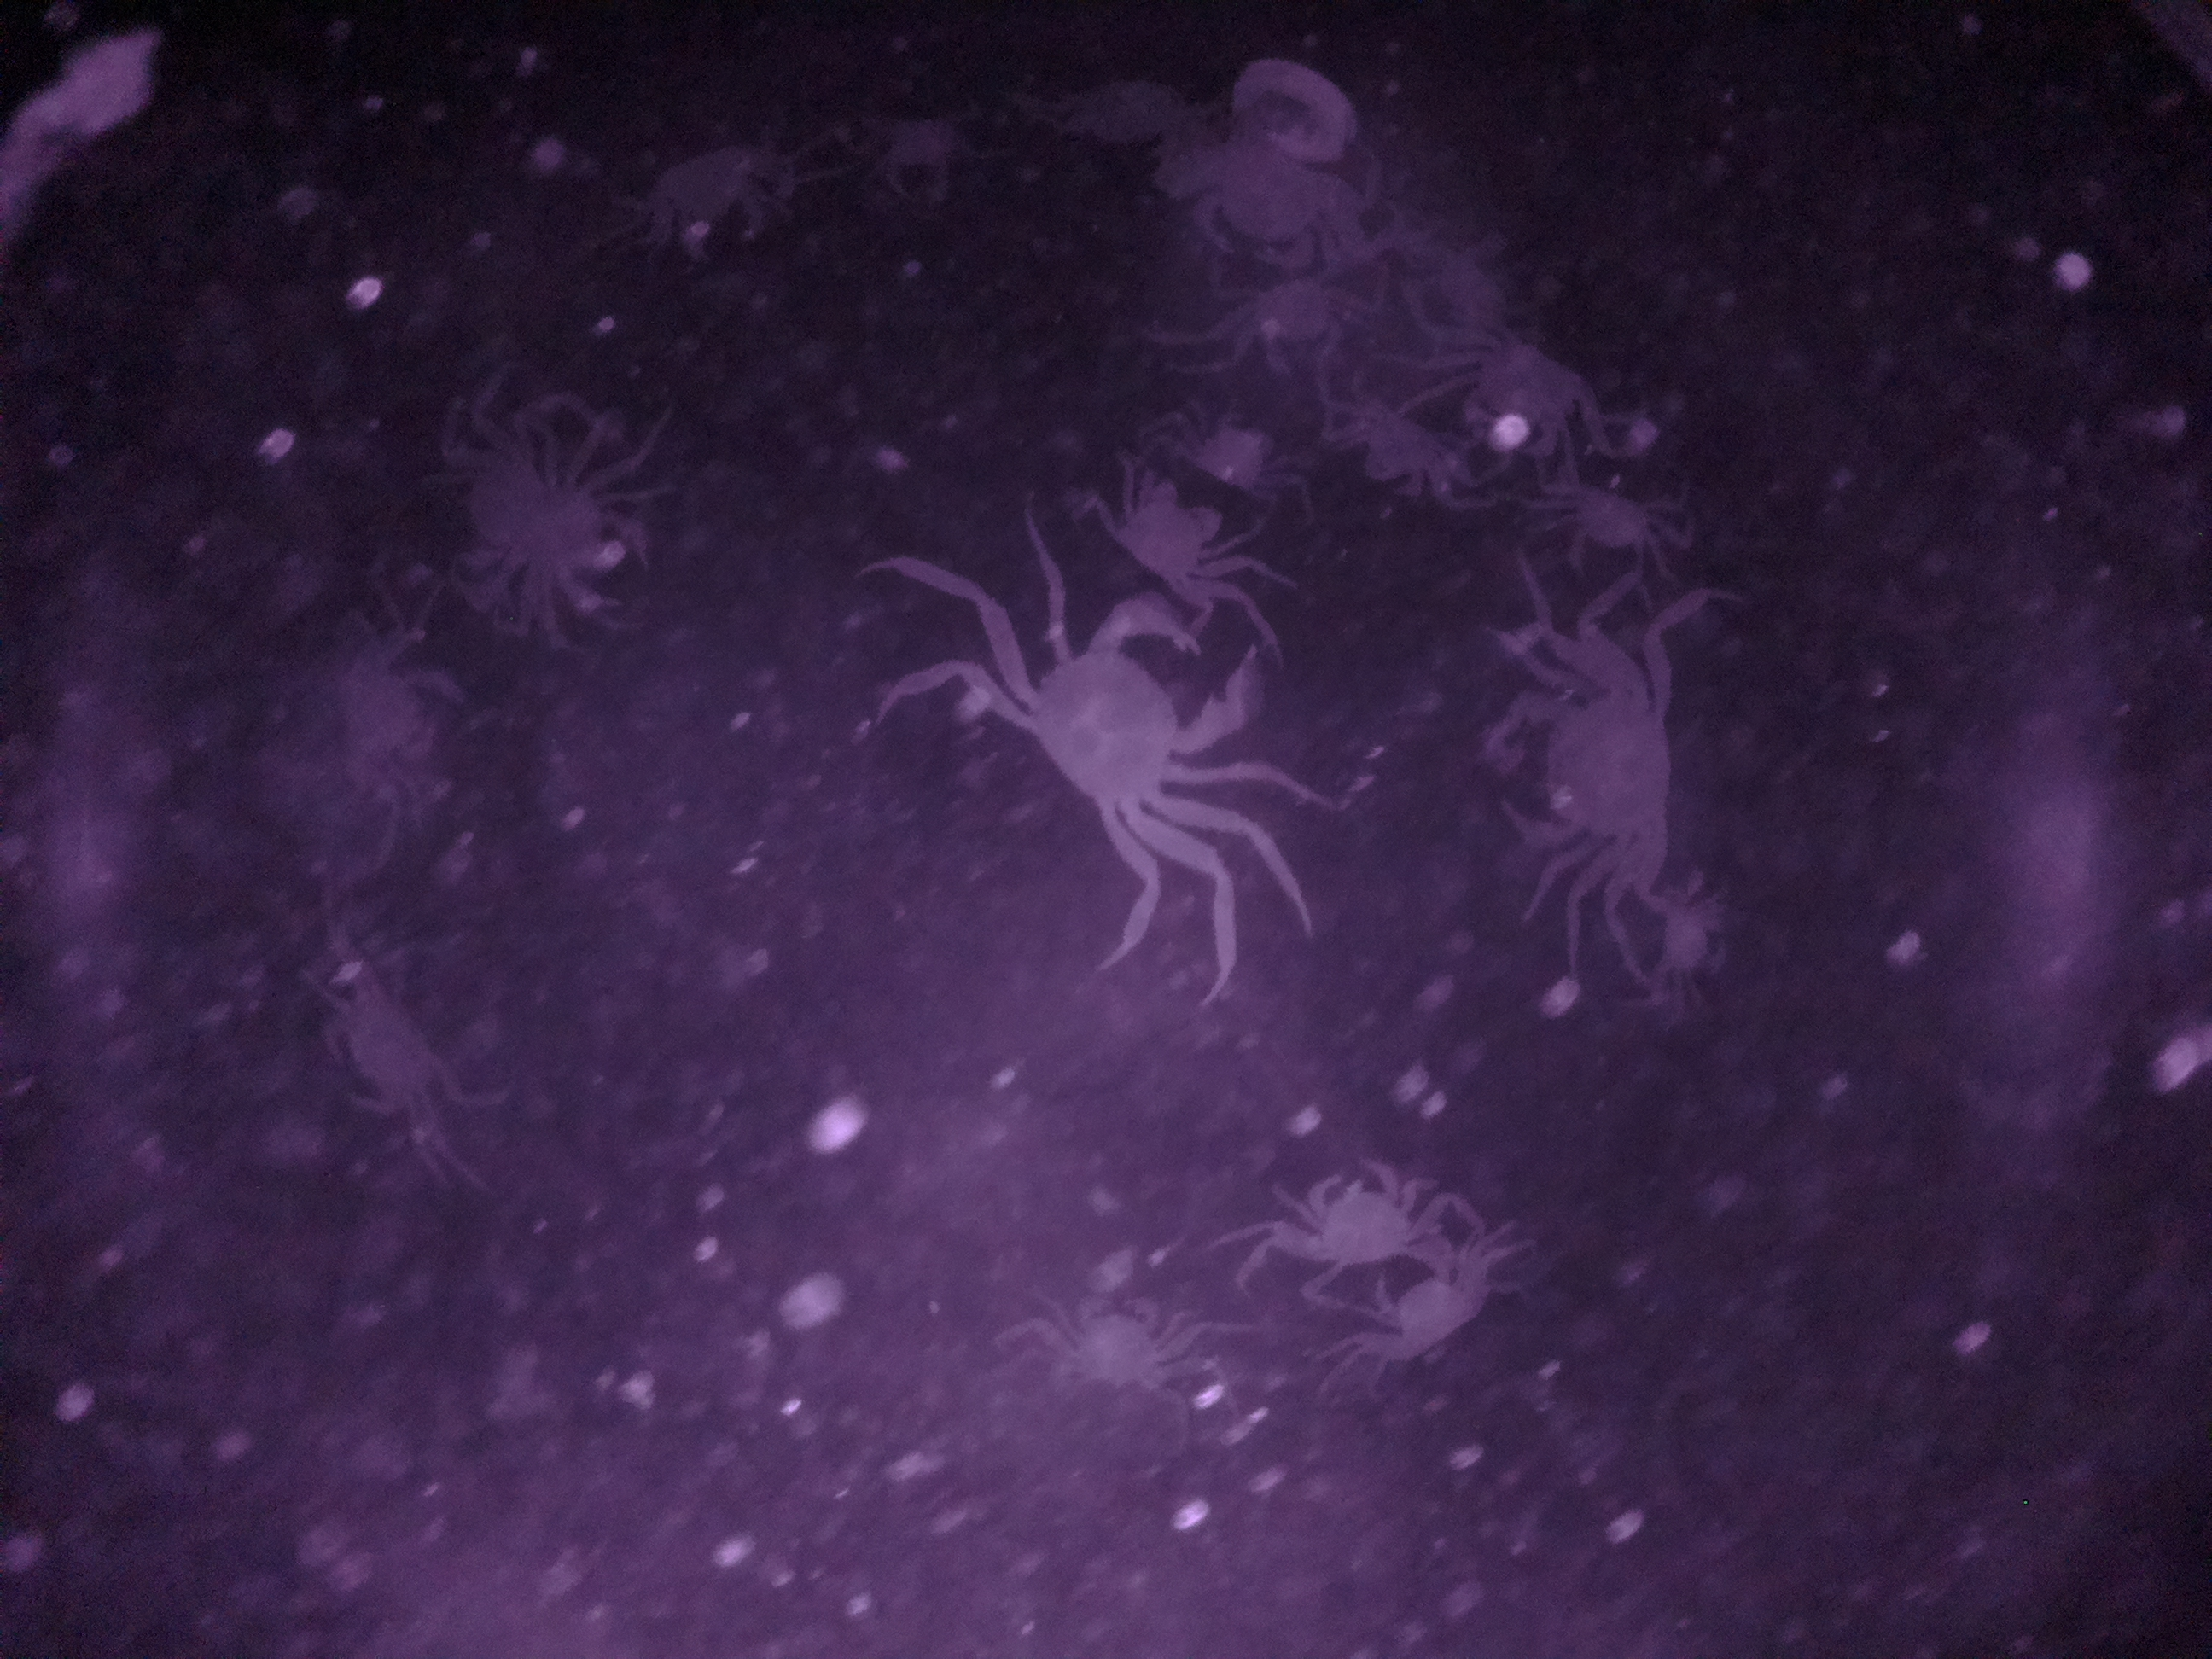Crab: (1001, 599, 1271, 866), (1479, 655, 1700, 896), (1339, 1227, 1515, 1389), (1446, 326, 1613, 472), (1273, 1150, 1439, 1295), (1087, 464, 1242, 608), (1047, 1284, 1204, 1413)
